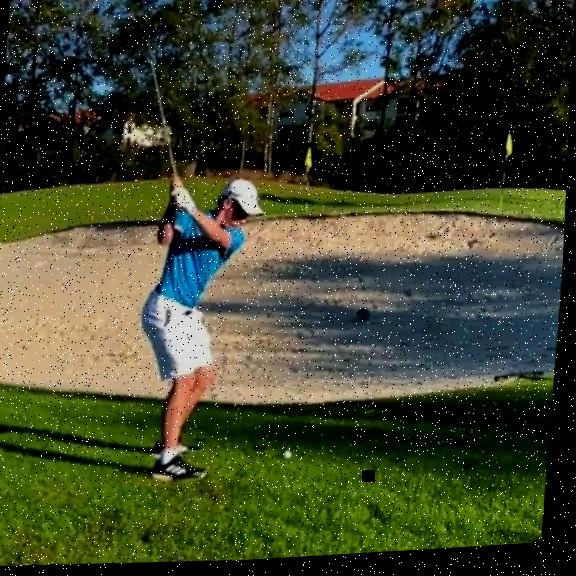GolfBall: (287, 453, 296, 463)
